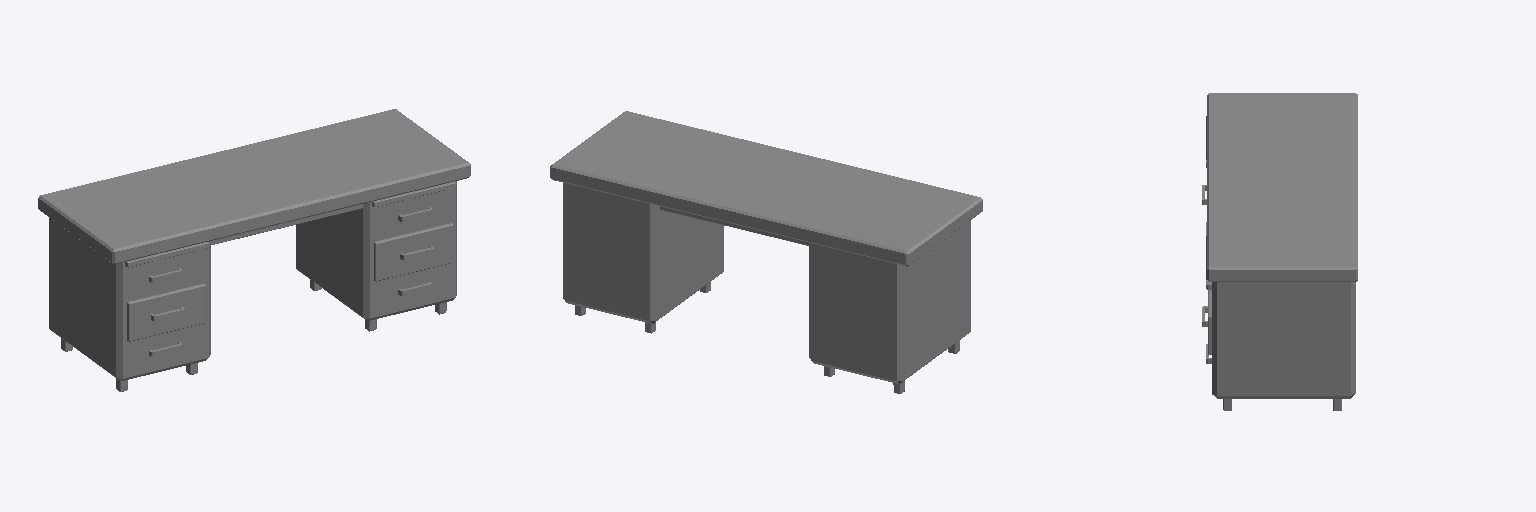
File: Desk_FO4_SG_low.obj
3 views of the same model, side by side, from view 1: azimuth 30°, elevation 25°; view 2: azimuth 150°, elevation 25°; view 3: azimuth 270°, elevation 25° (orthographic).
Parts seen in each view (by area): view 1: Desk_FO4_low001; view 2: Desk_FO4_low001; view 3: Desk_FO4_low001.
Boxes of the visible parts, <box> form: Desk_FO4_low001: <box>38,109,470,391</box>; Desk_FO4_low001: <box>550,111,982,393</box>; Desk_FO4_low001: <box>1202,93,1357,410</box>.
Size of the model in its own units: 1210 by 489 by 458.